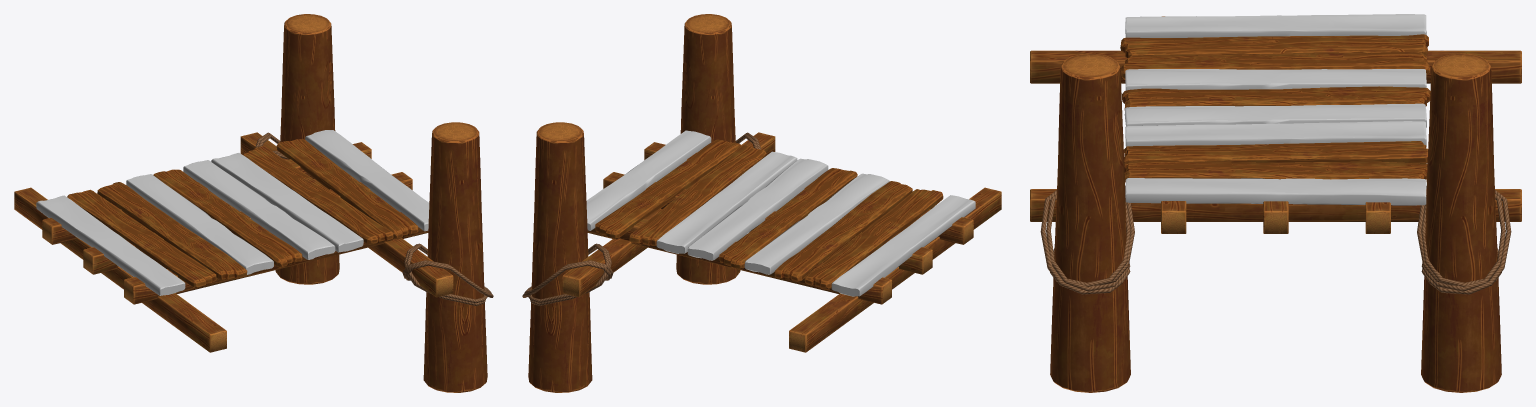
Rendered from Pier_A.fbx.
The picture shows the model from 3 angles, left to right: view 1: azimuth 30°, elevation 25°; view 2: azimuth 150°, elevation 25°; view 3: azimuth 270°, elevation 25°; orthographic projection. The views are drawn at different scales.
Visible parts, largest first — view 1: Tabua_G_B_LP.005; view 2: Tabua_G_B_LP.005; view 3: Tabua_G_B_LP.005.
Boxes of the visible parts, box(x1,y1,x2,y2) form: Tabua_G_B_LP.005: box(14, 14, 493, 392); Tabua_G_B_LP.005: box(522, 14, 1001, 392); Tabua_G_B_LP.005: box(1030, 14, 1521, 392).
Size of the model in its own units: 548 by 400 by 573.
